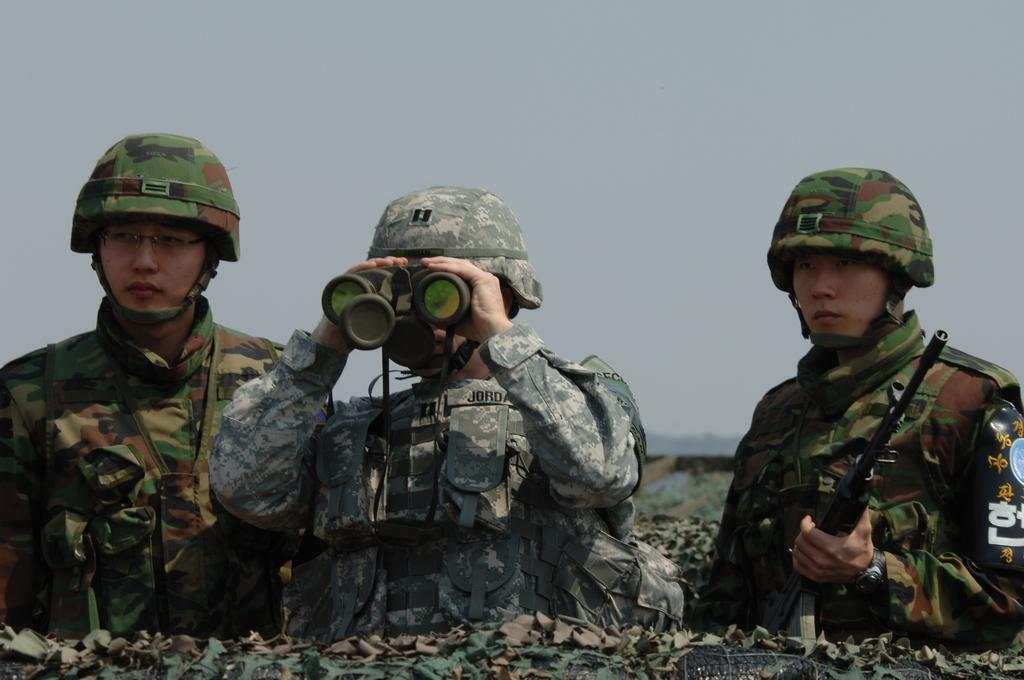non-violence: (202, 176, 682, 647), (0, 125, 340, 642), (676, 169, 1020, 648)
weapon: (748, 324, 946, 646)
